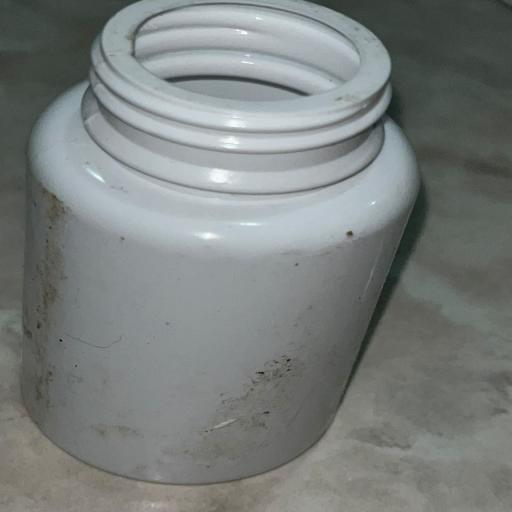HDPE: (14, 7, 500, 475)
